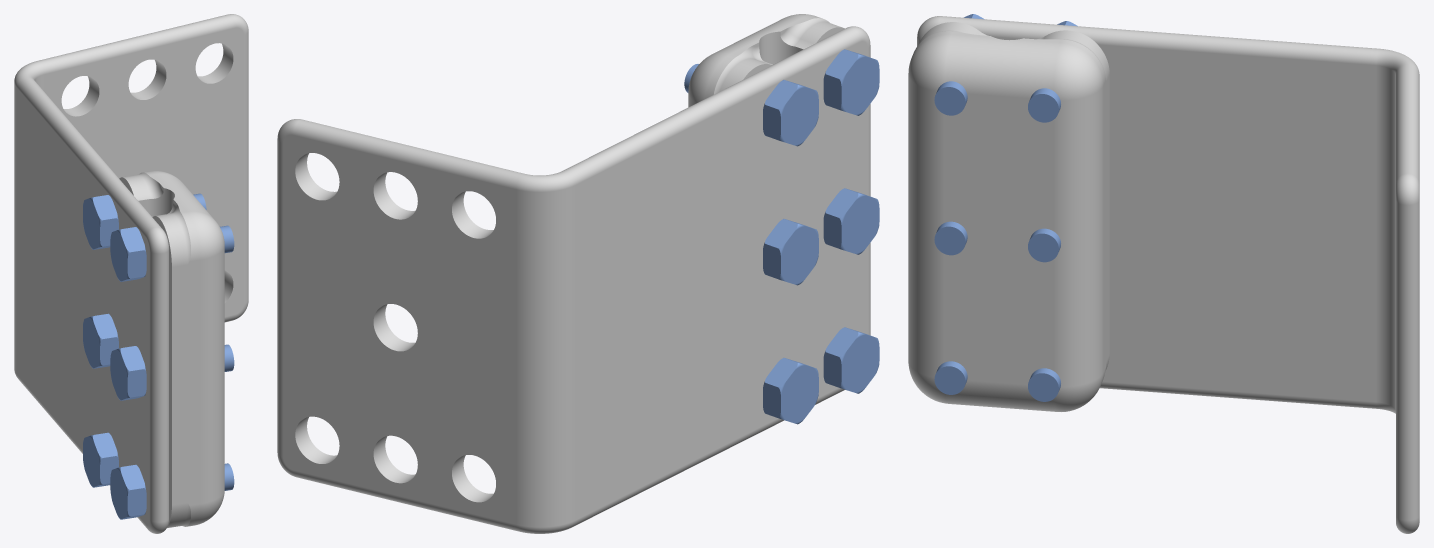
Rendered from New_Pro.glb.
The picture shows the model from 3 angles, left to right: view 1: azimuth 30°, elevation 25°; view 2: azimuth 150°, elevation 25°; view 3: azimuth 270°, elevation 25°; orthographic projection. The views are drawn at different scales.
Parts seen in each view (by area): view 1: Platin_NewPro, Matrice_NewPro, Boulons INOX 10x25 (×6); view 2: Platin_NewPro, Boulons INOX 10x25 (×6), Matrice_NewPro; view 3: Platin_NewPro, Matrice_NewPro, Boulons INOX 10x25 (×6).
Boxes of the visible parts, bbox=[...] form: Platin_NewPro: bbox=[14, 14, 248, 533]; Matrice_NewPro: bbox=[119, 171, 224, 527]; Boulons INOX 10x25 (×6): bbox=[83, 193, 234, 519]; Platin_NewPro: bbox=[277, 26, 870, 533]; Boulons INOX 10x25 (×6): bbox=[684, 49, 879, 424]; Matrice_NewPro: bbox=[688, 14, 844, 107]; Platin_NewPro: bbox=[917, 16, 1419, 533]; Matrice_NewPro: bbox=[908, 22, 1109, 411]; Boulons INOX 10x25 (×6): bbox=[934, 14, 1077, 401].
Bounding box in the file's own units: 0.1087 × 0.102 × 0.1294.
